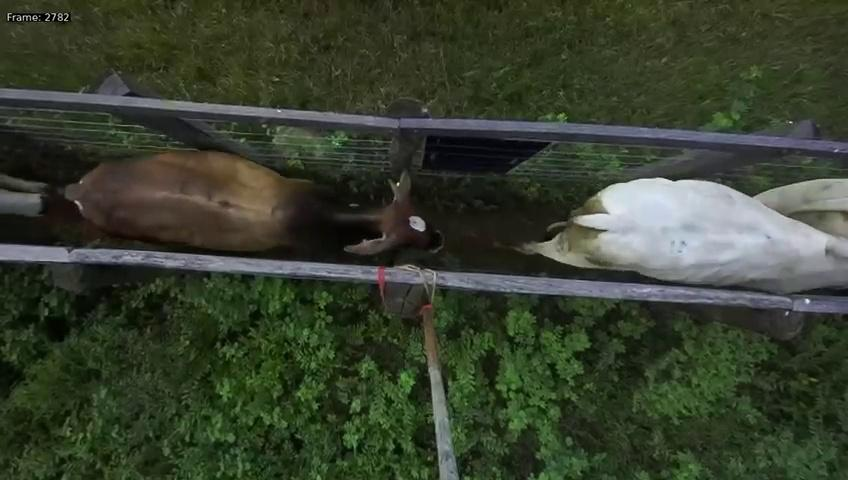cattle: (57, 140, 452, 276)
